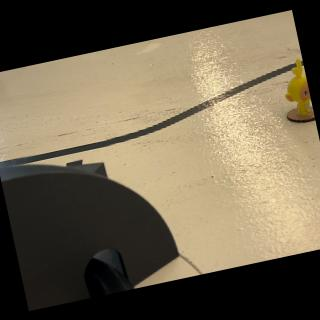teletubby: (285, 58, 311, 115)
